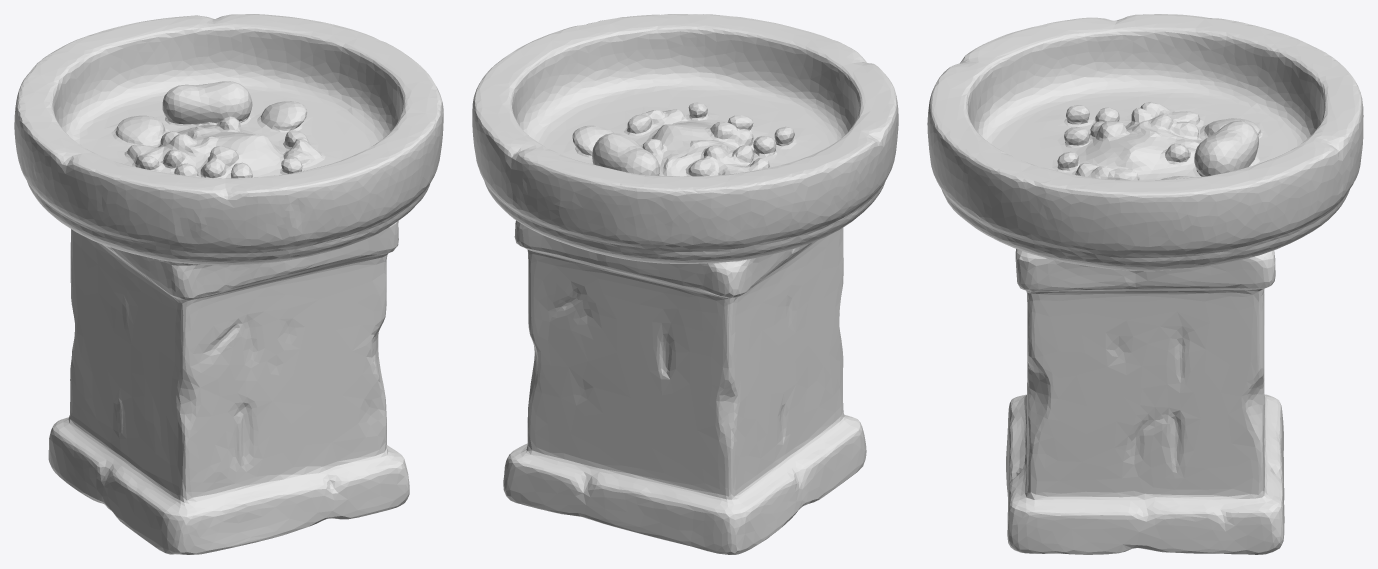
The model's file is rit_altar_bowl01.glb.
3 renders of one model, left to right at view 1: azimuth 30°, elevation 25°; view 2: azimuth 150°, elevation 25°; view 3: azimuth 270°, elevation 25°, orthographic. The views are drawn at different scales.
Visible parts, largest first — view 1: Low; view 2: Low; view 3: Low.
Boxes of the visible parts, x1,y1,x2,y2 form: Low: [14, 14, 443, 554]; Low: [472, 14, 898, 554]; Low: [927, 14, 1363, 554].
Bounding box in the file's own units: 1.99 × 1.98 × 1.99.
1 material, 1 textured.
